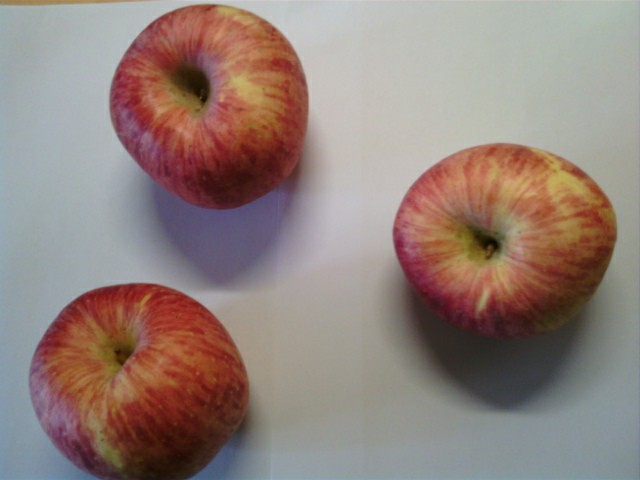normal_apple: (391, 140, 619, 342), (27, 283, 251, 480), (111, 2, 308, 211)
